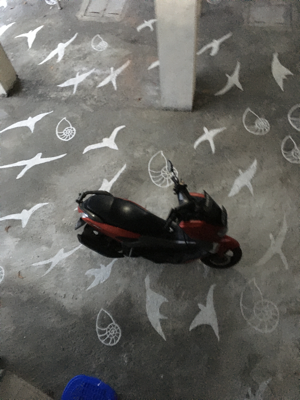moto: (73, 171, 246, 284)
